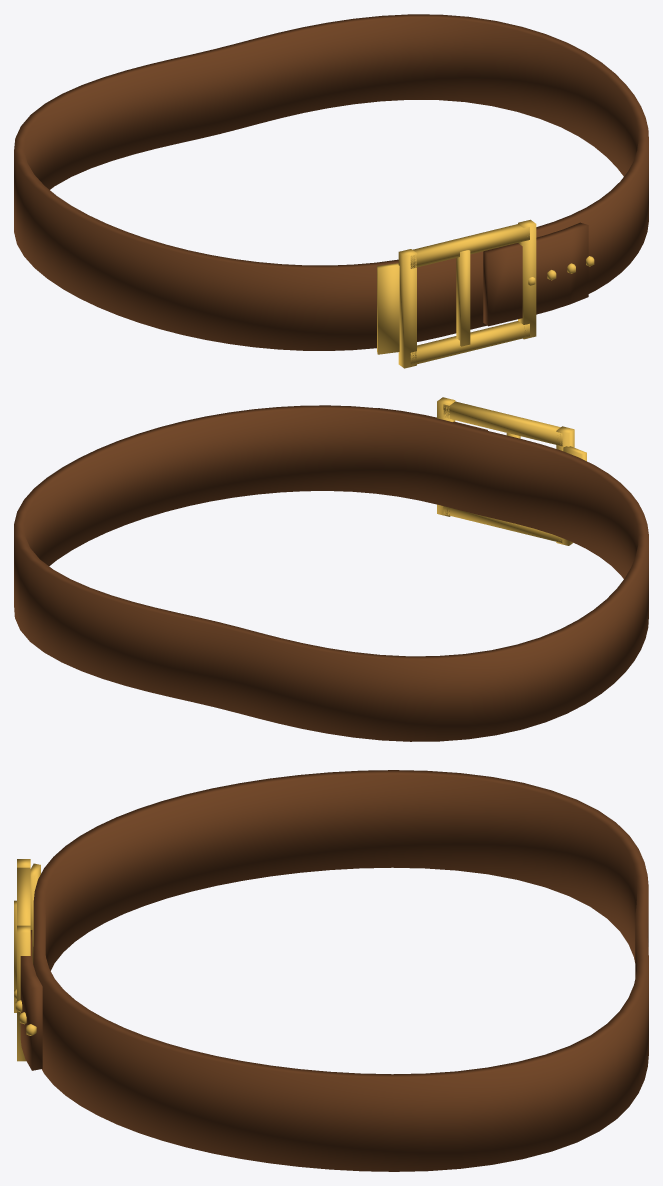
The model's file is leather_belt.glb.
3 views of the same model, one above another, from view 1: azimuth 30°, elevation 25°; view 2: azimuth 150°, elevation 25°; view 3: azimuth 270°, elevation 25° (orthographic). The views are drawn at different scales.
Visible parts, largest first — view 1: leather_belt; view 2: leather_belt; view 3: leather_belt.
Boxes of the visible parts, x1,y1,x2,y2 form: leather_belt: (14, 14, 648, 368); leather_belt: (14, 397, 648, 741); leather_belt: (14, 770, 648, 1171).
Bounding box in the file's own units: 0.1856 × 0.036 × 0.1612.
